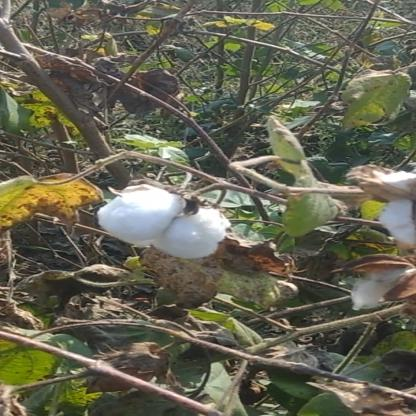cotton_ready: (60, 167, 235, 269)
